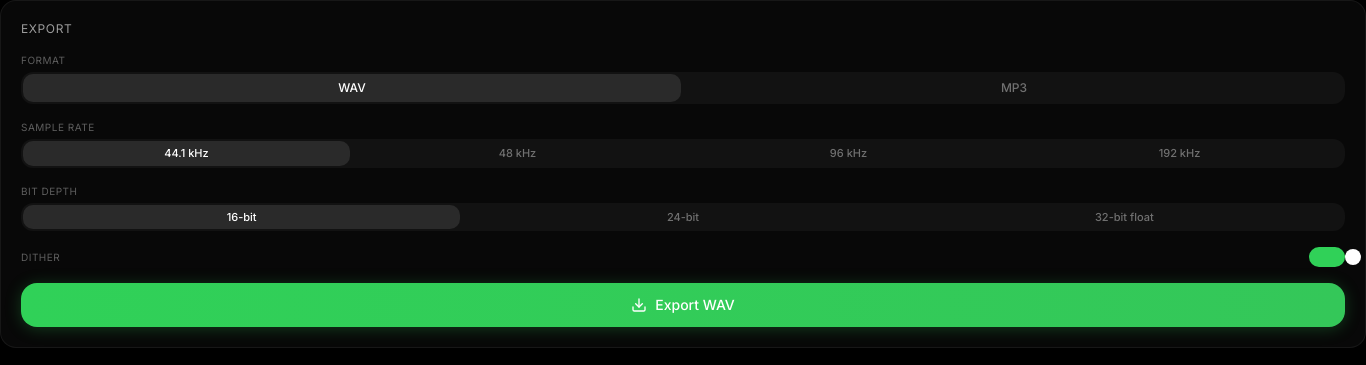
Test: ExportPanel › switching to MP3 relabels the button and marks MP3 pressed
This screenshot has width=1366, height=365.
What coordinates should you click on to do the following:
click the button "MP3"
I would click on:
 (1014, 88)
Its box is [685,74,1343,102].
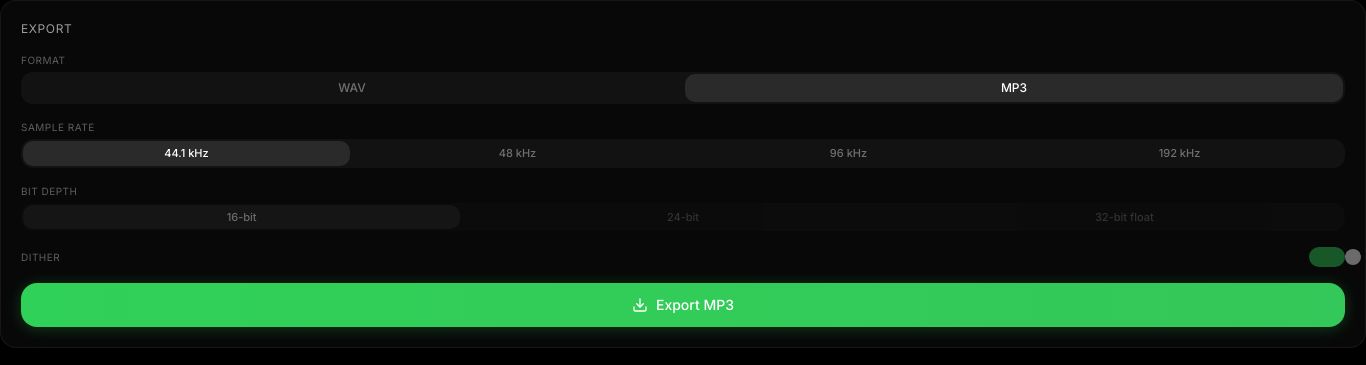
expect the button "Export MP3" is shown: met, box [21,283,1345,327]
